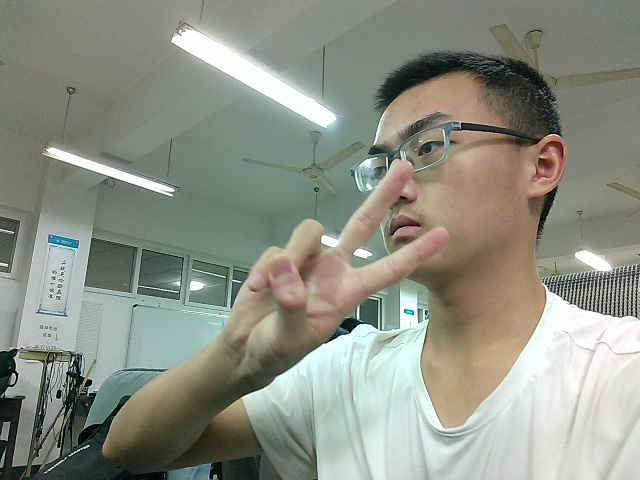scissor: (229, 154, 459, 384)
